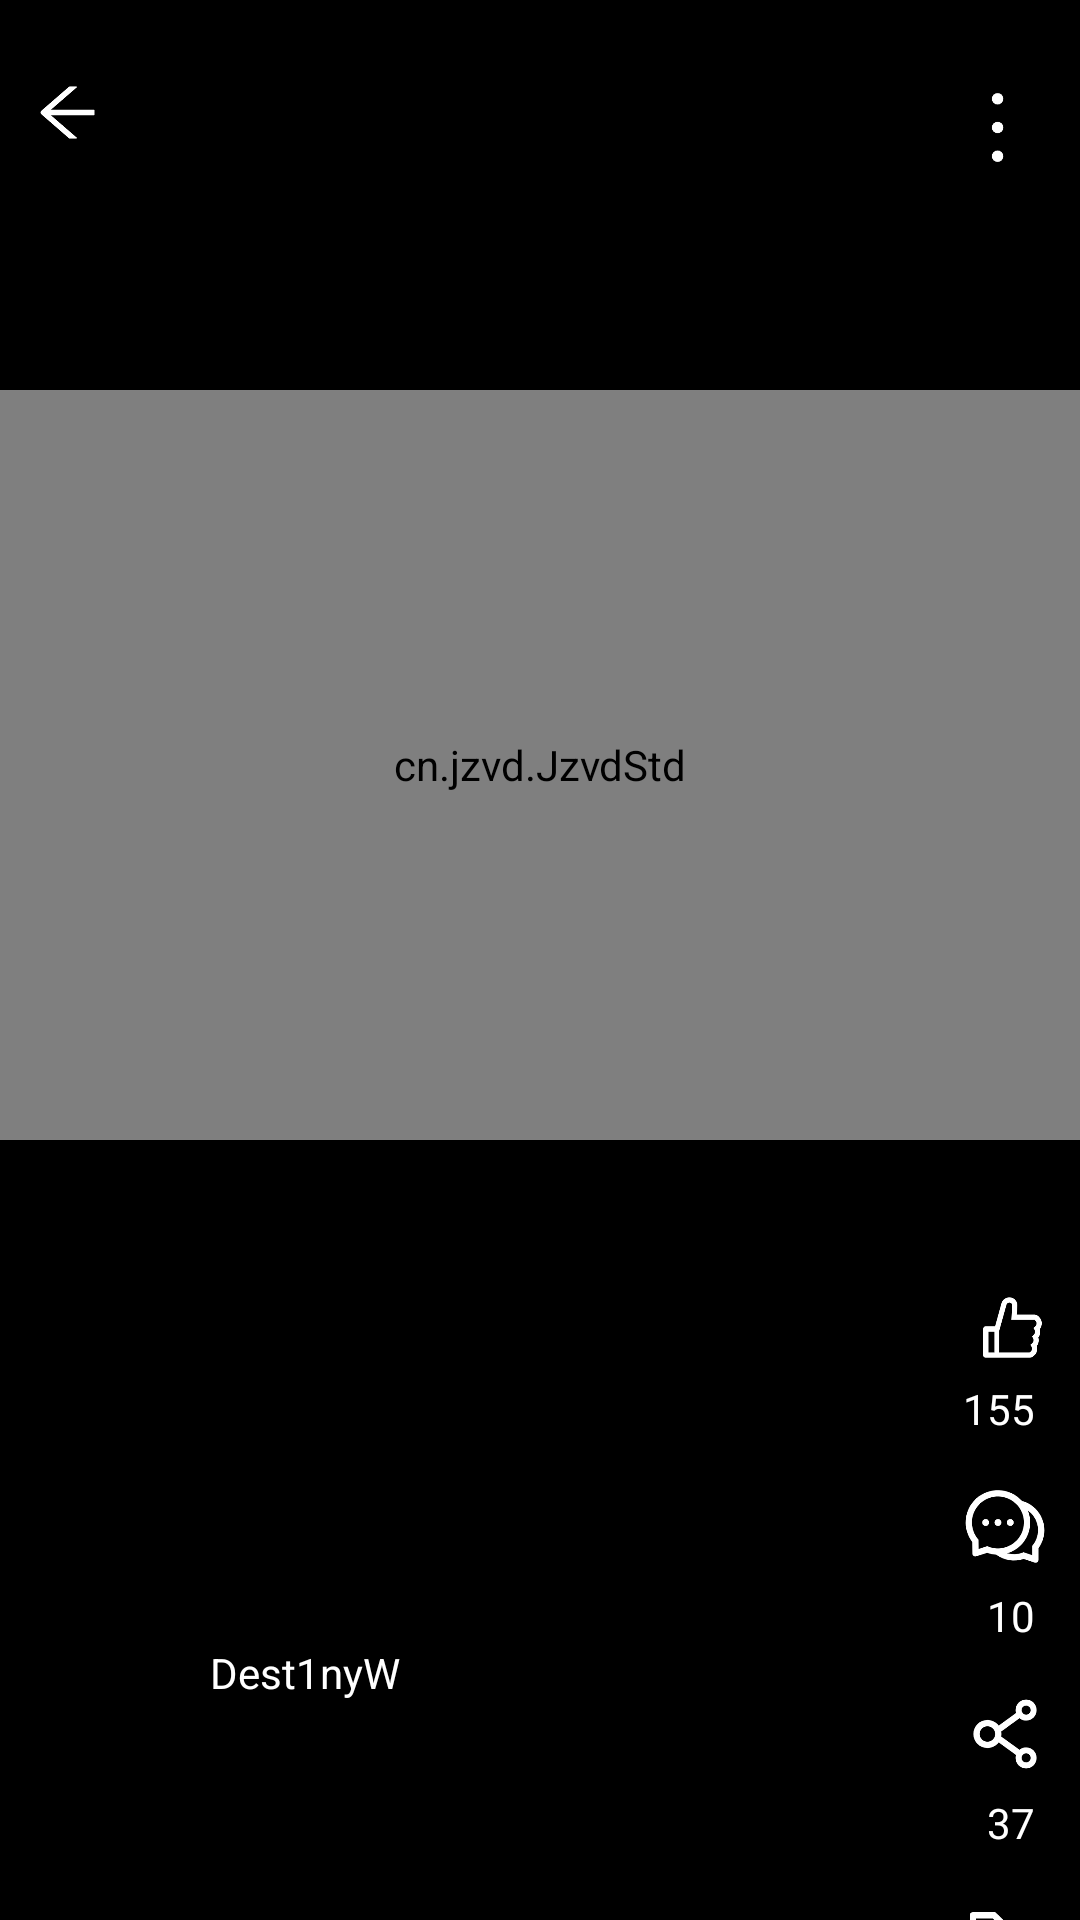

Point at icon controls on the screen. Image size 1080px x 1920px, points as (x,y).
like: (1012,1327)
musicappback: (67,112)
playmusic chat: (1005,1526)
playmusic setting: (998,127)
playmusic share: (1005,1734)
